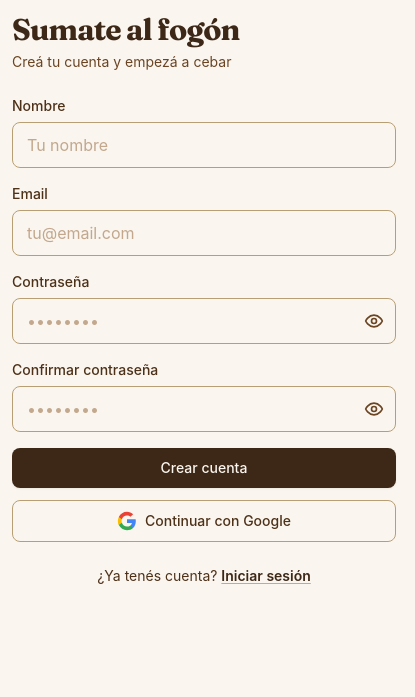
Test case: <RegisterPage /> (formulario de registro) › muestra error de validación si el email no es válido
Type "no-es-email" into the field labelled "Email".
click(204, 233); type("no-es-email")  # box 12,210 -> 396,256
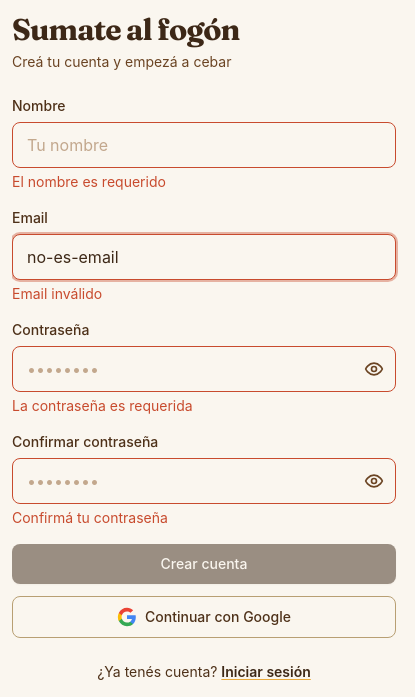
Now the text "Email inválido" is shown, box 12,285 -> 102,302
